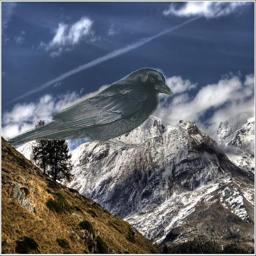Crow: (5, 67, 173, 149)
